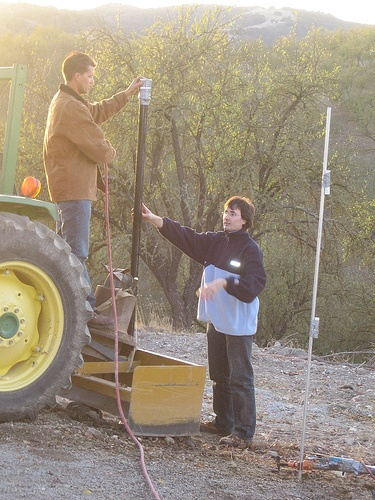head: (62, 48, 100, 97), (224, 196, 256, 233)
person: (139, 191, 265, 445), (44, 50, 144, 277)
